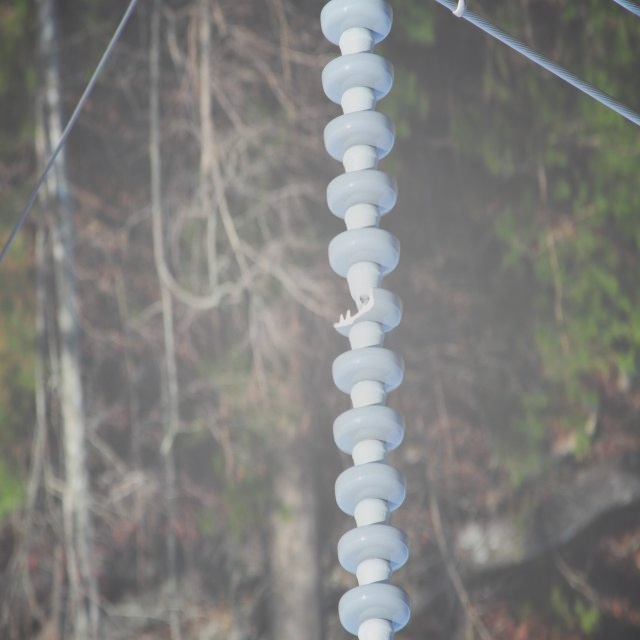broken: (332, 283, 375, 328)
insulator: (319, 0, 412, 636)
